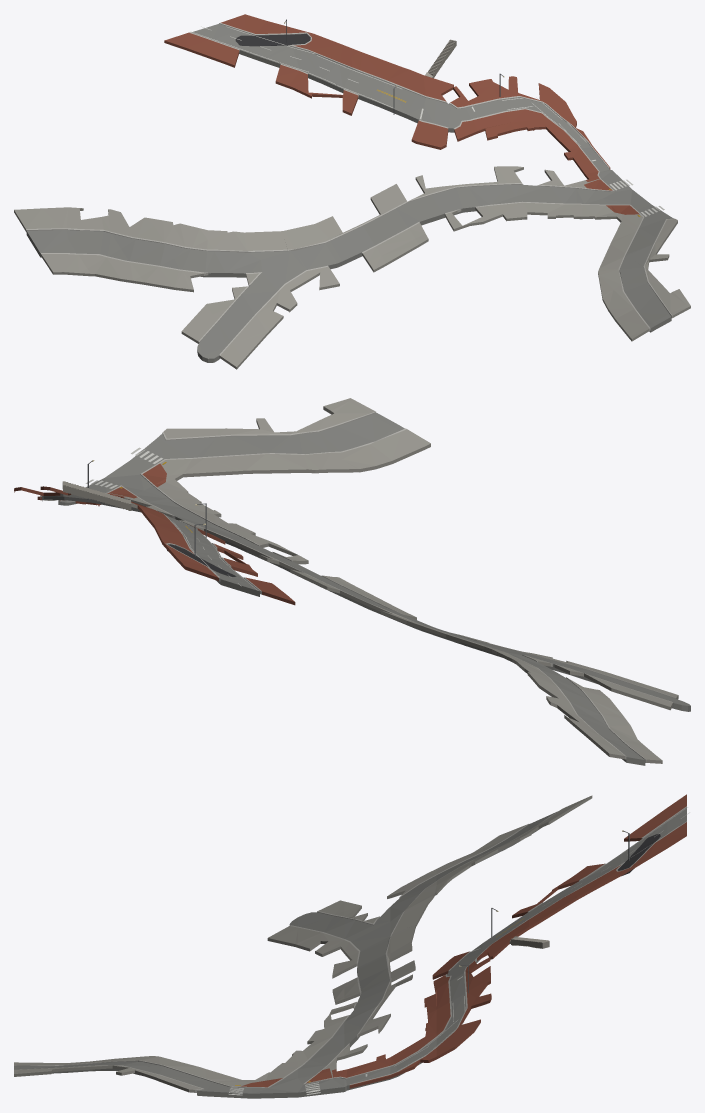
3 views of the same model, one above another, from view 1: azimuth 30°, elevation 25°; view 2: azimuth 150°, elevation 25°; view 3: azimuth 270°, elevation 25° (orthographic). The views are drawn at different scales.
Size of the model in its own units: 148 by 53.73 by 147.
